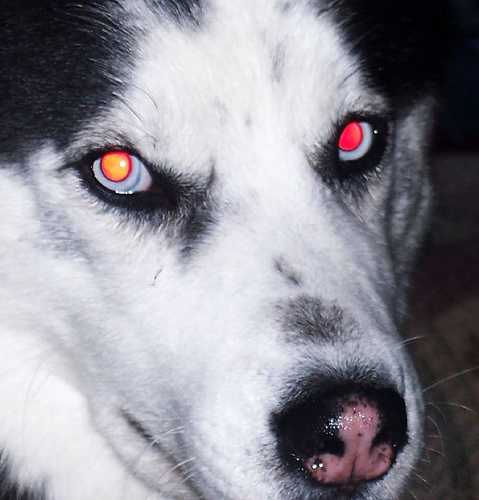dog: (0, 0, 433, 498)
